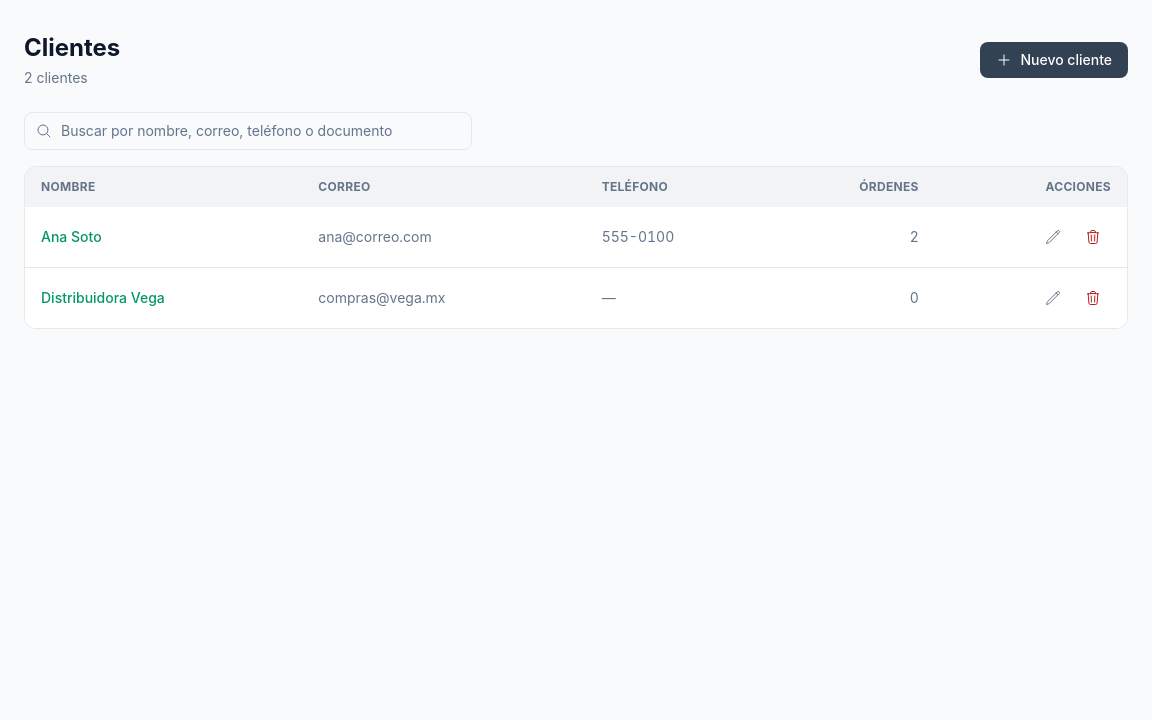
it: CustomersPage › un correo mal escrito se señala en el campo, en el idioma de la aplicación
The width and height of the screenshot is (1152, 720).
Click the button "Nuevo cliente".
click(1054, 60)  # box [980,42,1128,78]
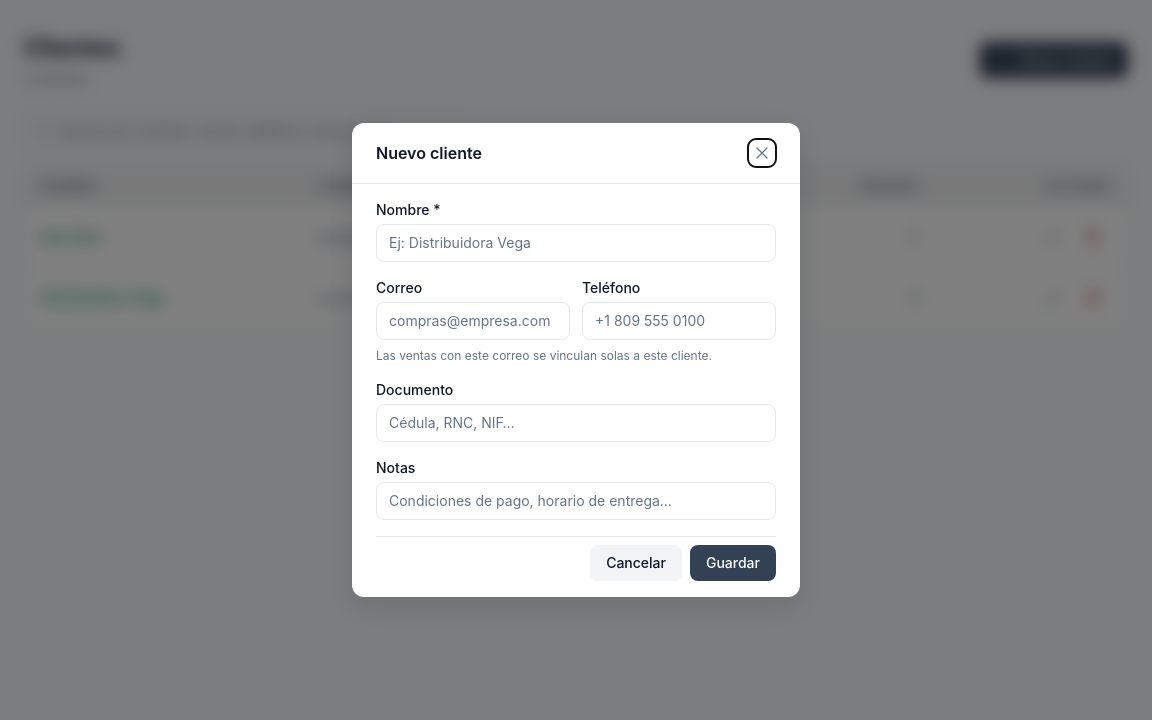
Type "Beto" into the field labelled "Nombre *".
click(576, 243); type("Beto")  # box [376,224,776,262]
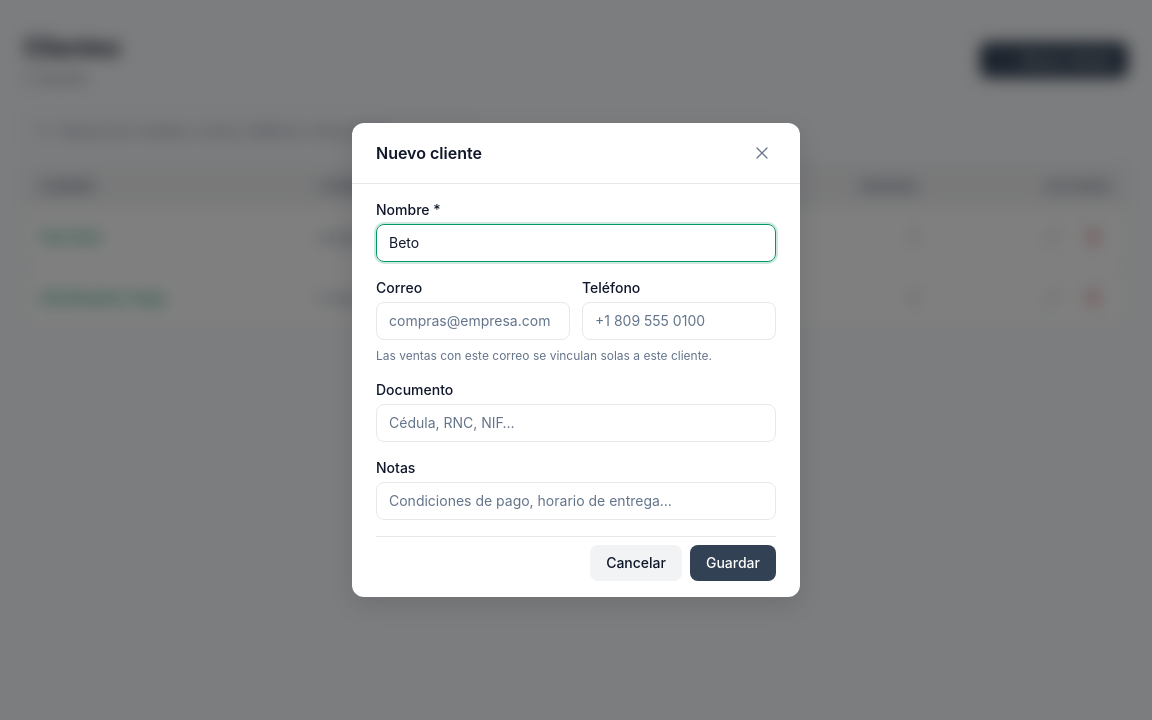
Type "no-es-correo" into the field labelled "Correo".
click(473, 321); type("no-es-correo")  # box [376,302,570,340]
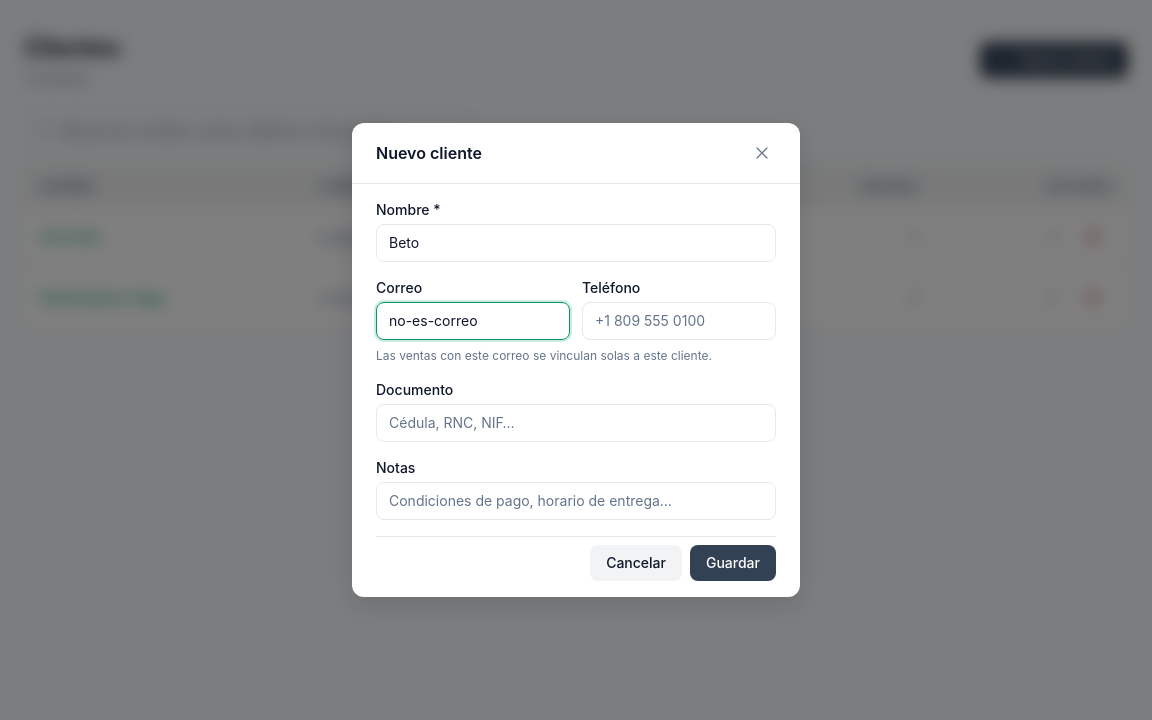
Click the button "Guardar".
click(733, 563)  # box [690,545,776,581]
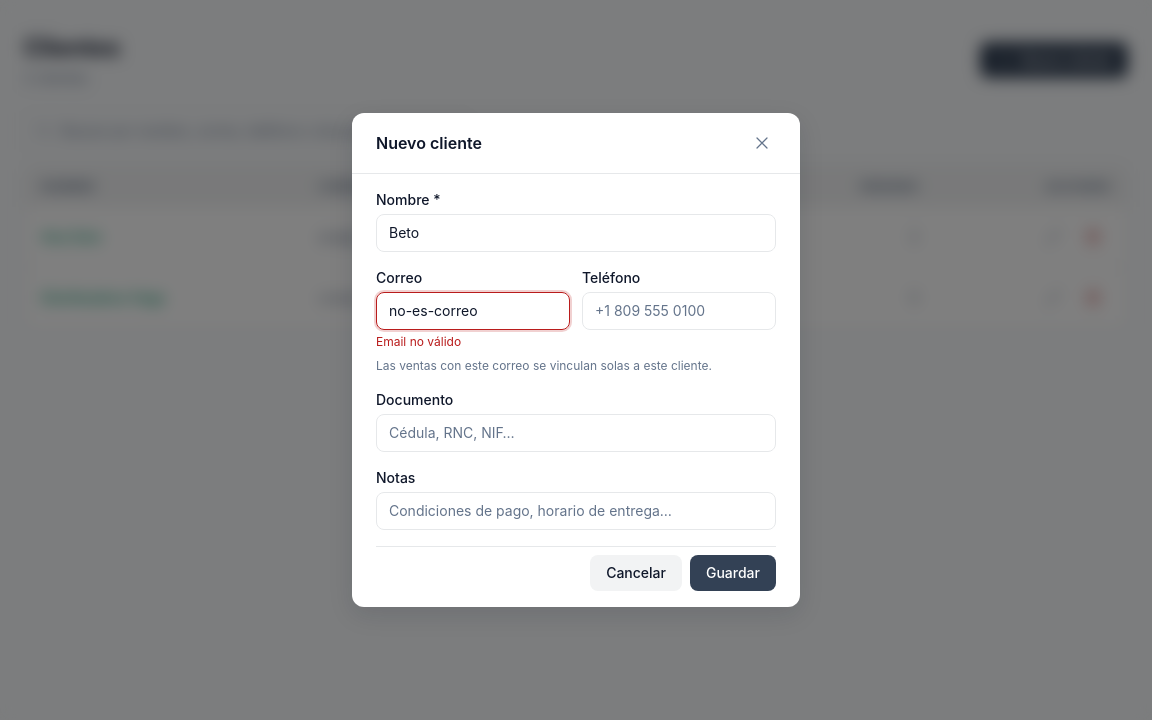
Check: the message "Email no válido" is shown, box [376,334,461,349]
